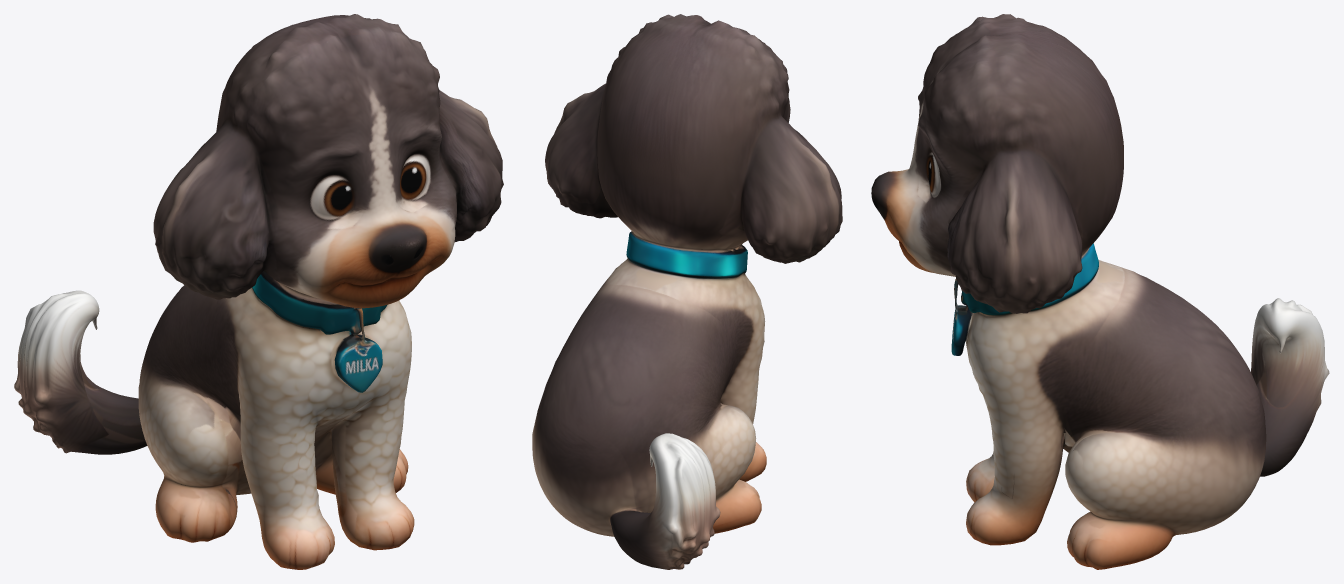
Rendered from milka.glb.
The picture shows the model from 3 angles, left to right: view 1: azimuth 30°, elevation 25°; view 2: azimuth 150°, elevation 25°; view 3: azimuth 270°, elevation 25°; orthographic projection. The views are drawn at different scales.
Visible parts, largest first — view 1: model; view 2: model; view 3: model.
Boxes of the visible parts, <box> form: model: <box>14,14,503,569</box>; model: <box>532,14,842,569</box>; model: <box>871,14,1329,569</box>.
Bounding box in the file's own units: 1.28 × 1.91 × 1.61.
1 material, 1 textured.
